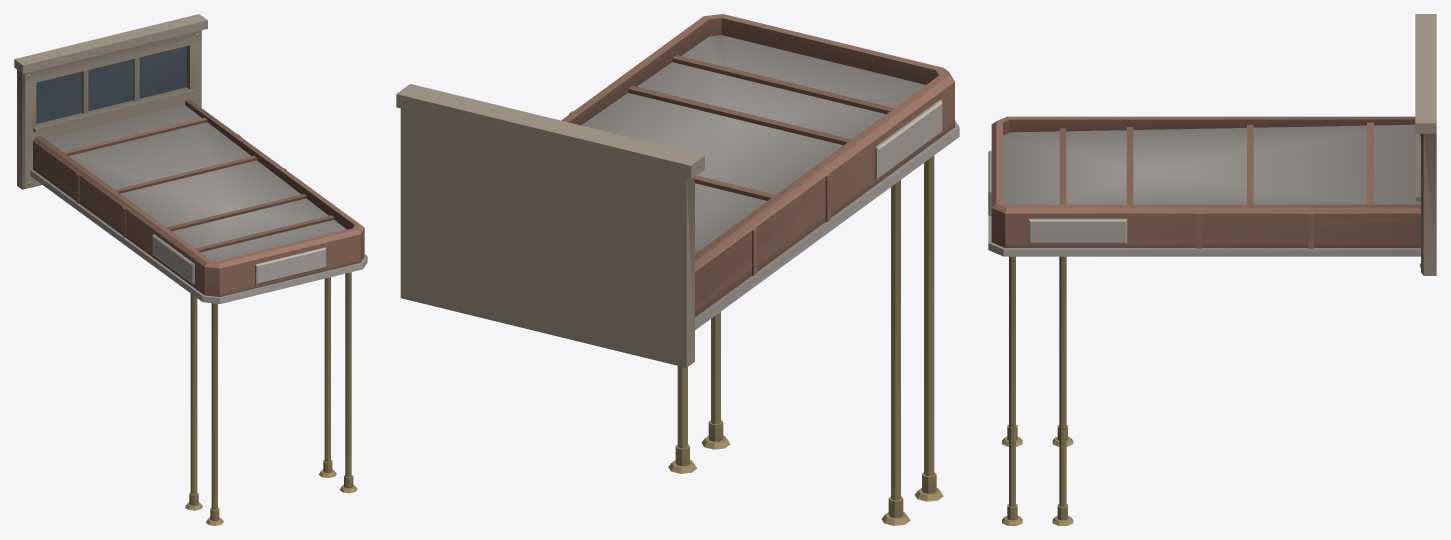
The model's file is canopy.glb.
The picture shows the model from 3 angles, left to right: view 1: azimuth 30°, elevation 25°; view 2: azimuth 150°, elevation 25°; view 3: azimuth 270°, elevation 25°; orthographic projection. The views are drawn at different scales.
Parts seen in each view (by area): view 1: canopy.001; view 2: canopy.001; view 3: canopy.001.
Part boxes in pixels (x1=…): canopy.001: x1=14, y1=14, x2=367, y2=525; canopy.001: x1=396, y1=14, x2=959, y2=525; canopy.001: x1=988, y1=14, x2=1436, y2=525.
Bounding box in the file's own units: 2.31 × 4.07 × 4.
